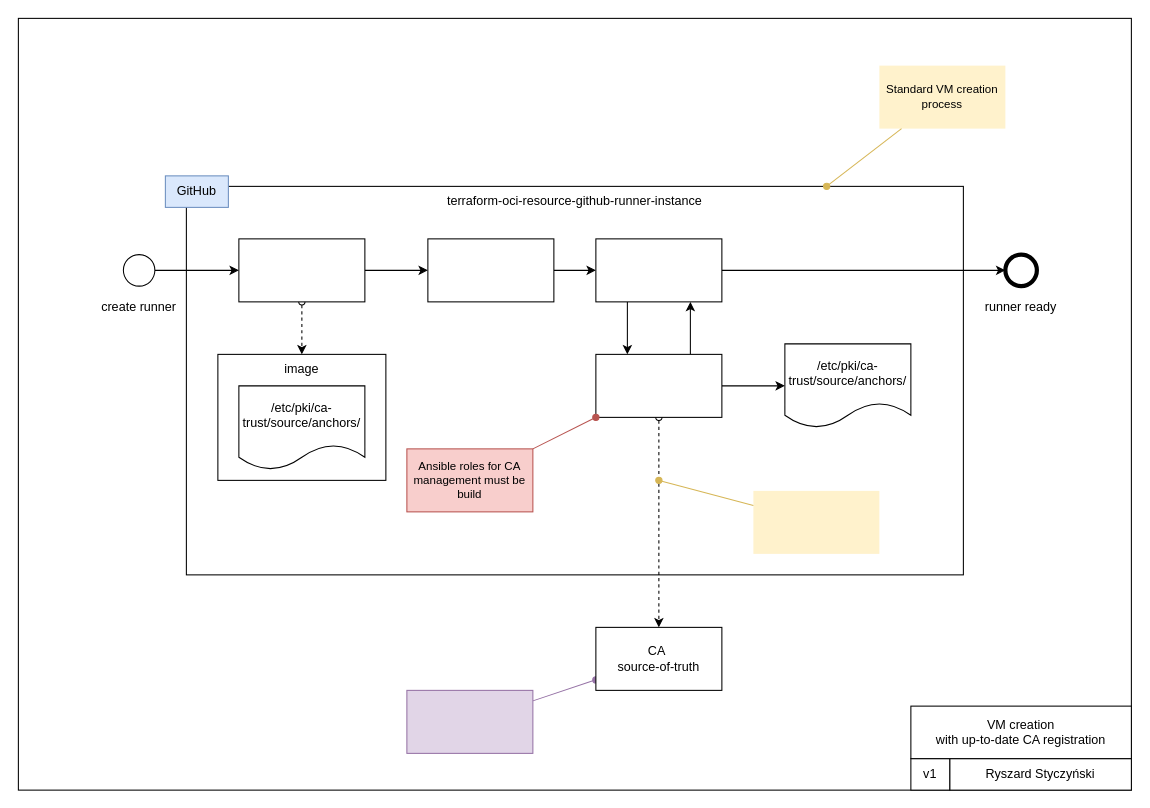
Image size: 1150x808. Some labels were removed from this diagram. Here are the shapes that lost their labels. From the top down, the centre of each, then its label:
At [301,270]: "vm create".
At [490,270]: "vm start".
At [658,270]: "vm configure".
At [658,385]: "Ansible".
At [816,521]: "CA configured during first start".
At [469,721]: "Where is the source of Root Certificates".
